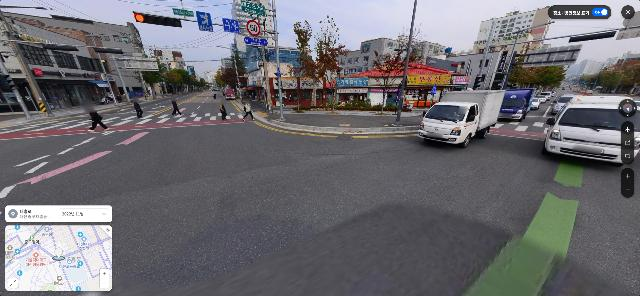other: (372, 25, 427, 113), (315, 16, 346, 111), (292, 19, 315, 111), (509, 66, 563, 90), (135, 51, 160, 99), (218, 67, 250, 97), (161, 63, 175, 95), (173, 68, 188, 94), (215, 70, 226, 90), (189, 75, 197, 91)
